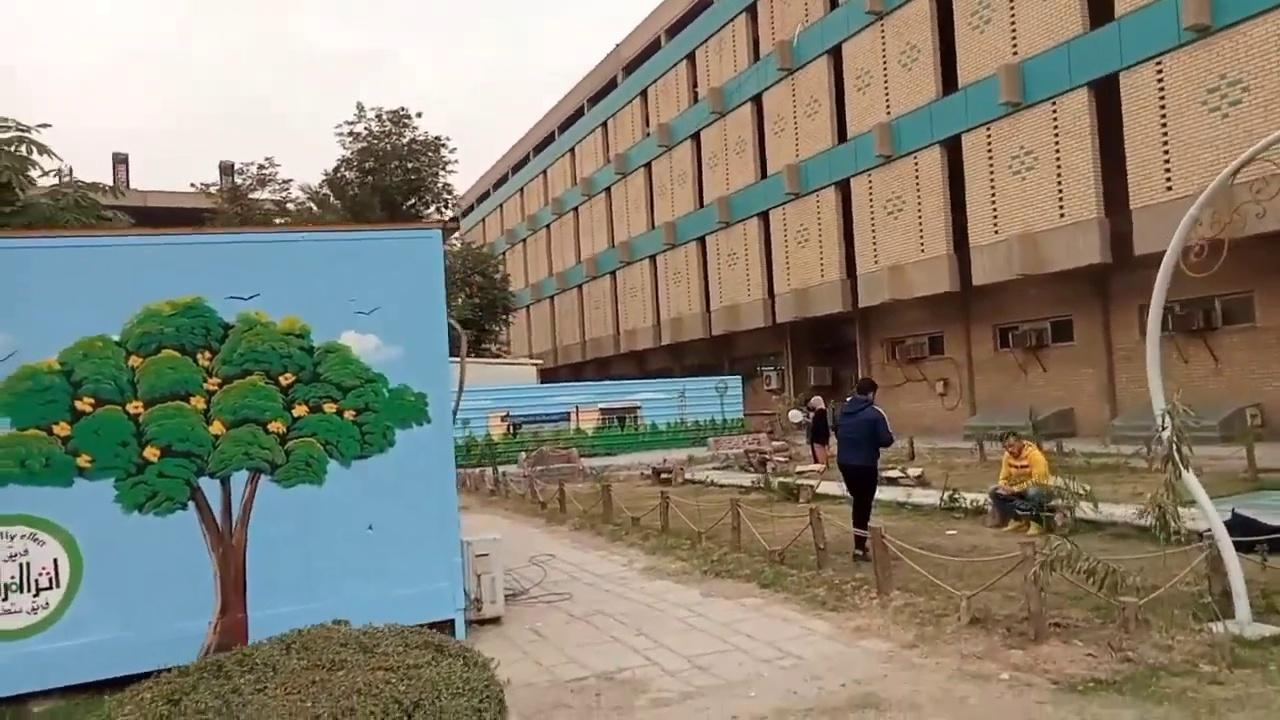person: (834, 377, 894, 562), (985, 430, 1051, 535), (806, 395, 830, 472)
tree: (0, 293, 431, 660), (317, 99, 459, 223), (0, 114, 133, 229), (444, 235, 516, 359), (189, 155, 296, 226), (0, 114, 63, 212), (297, 180, 341, 223)
